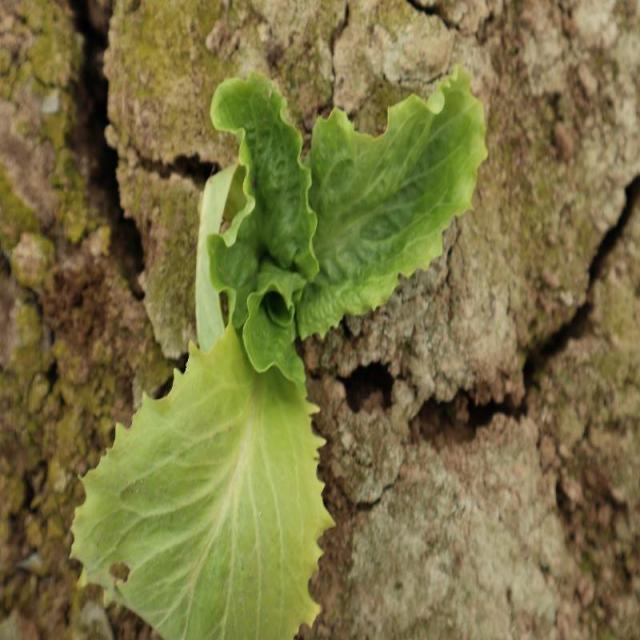crop: (72, 68, 491, 640)
